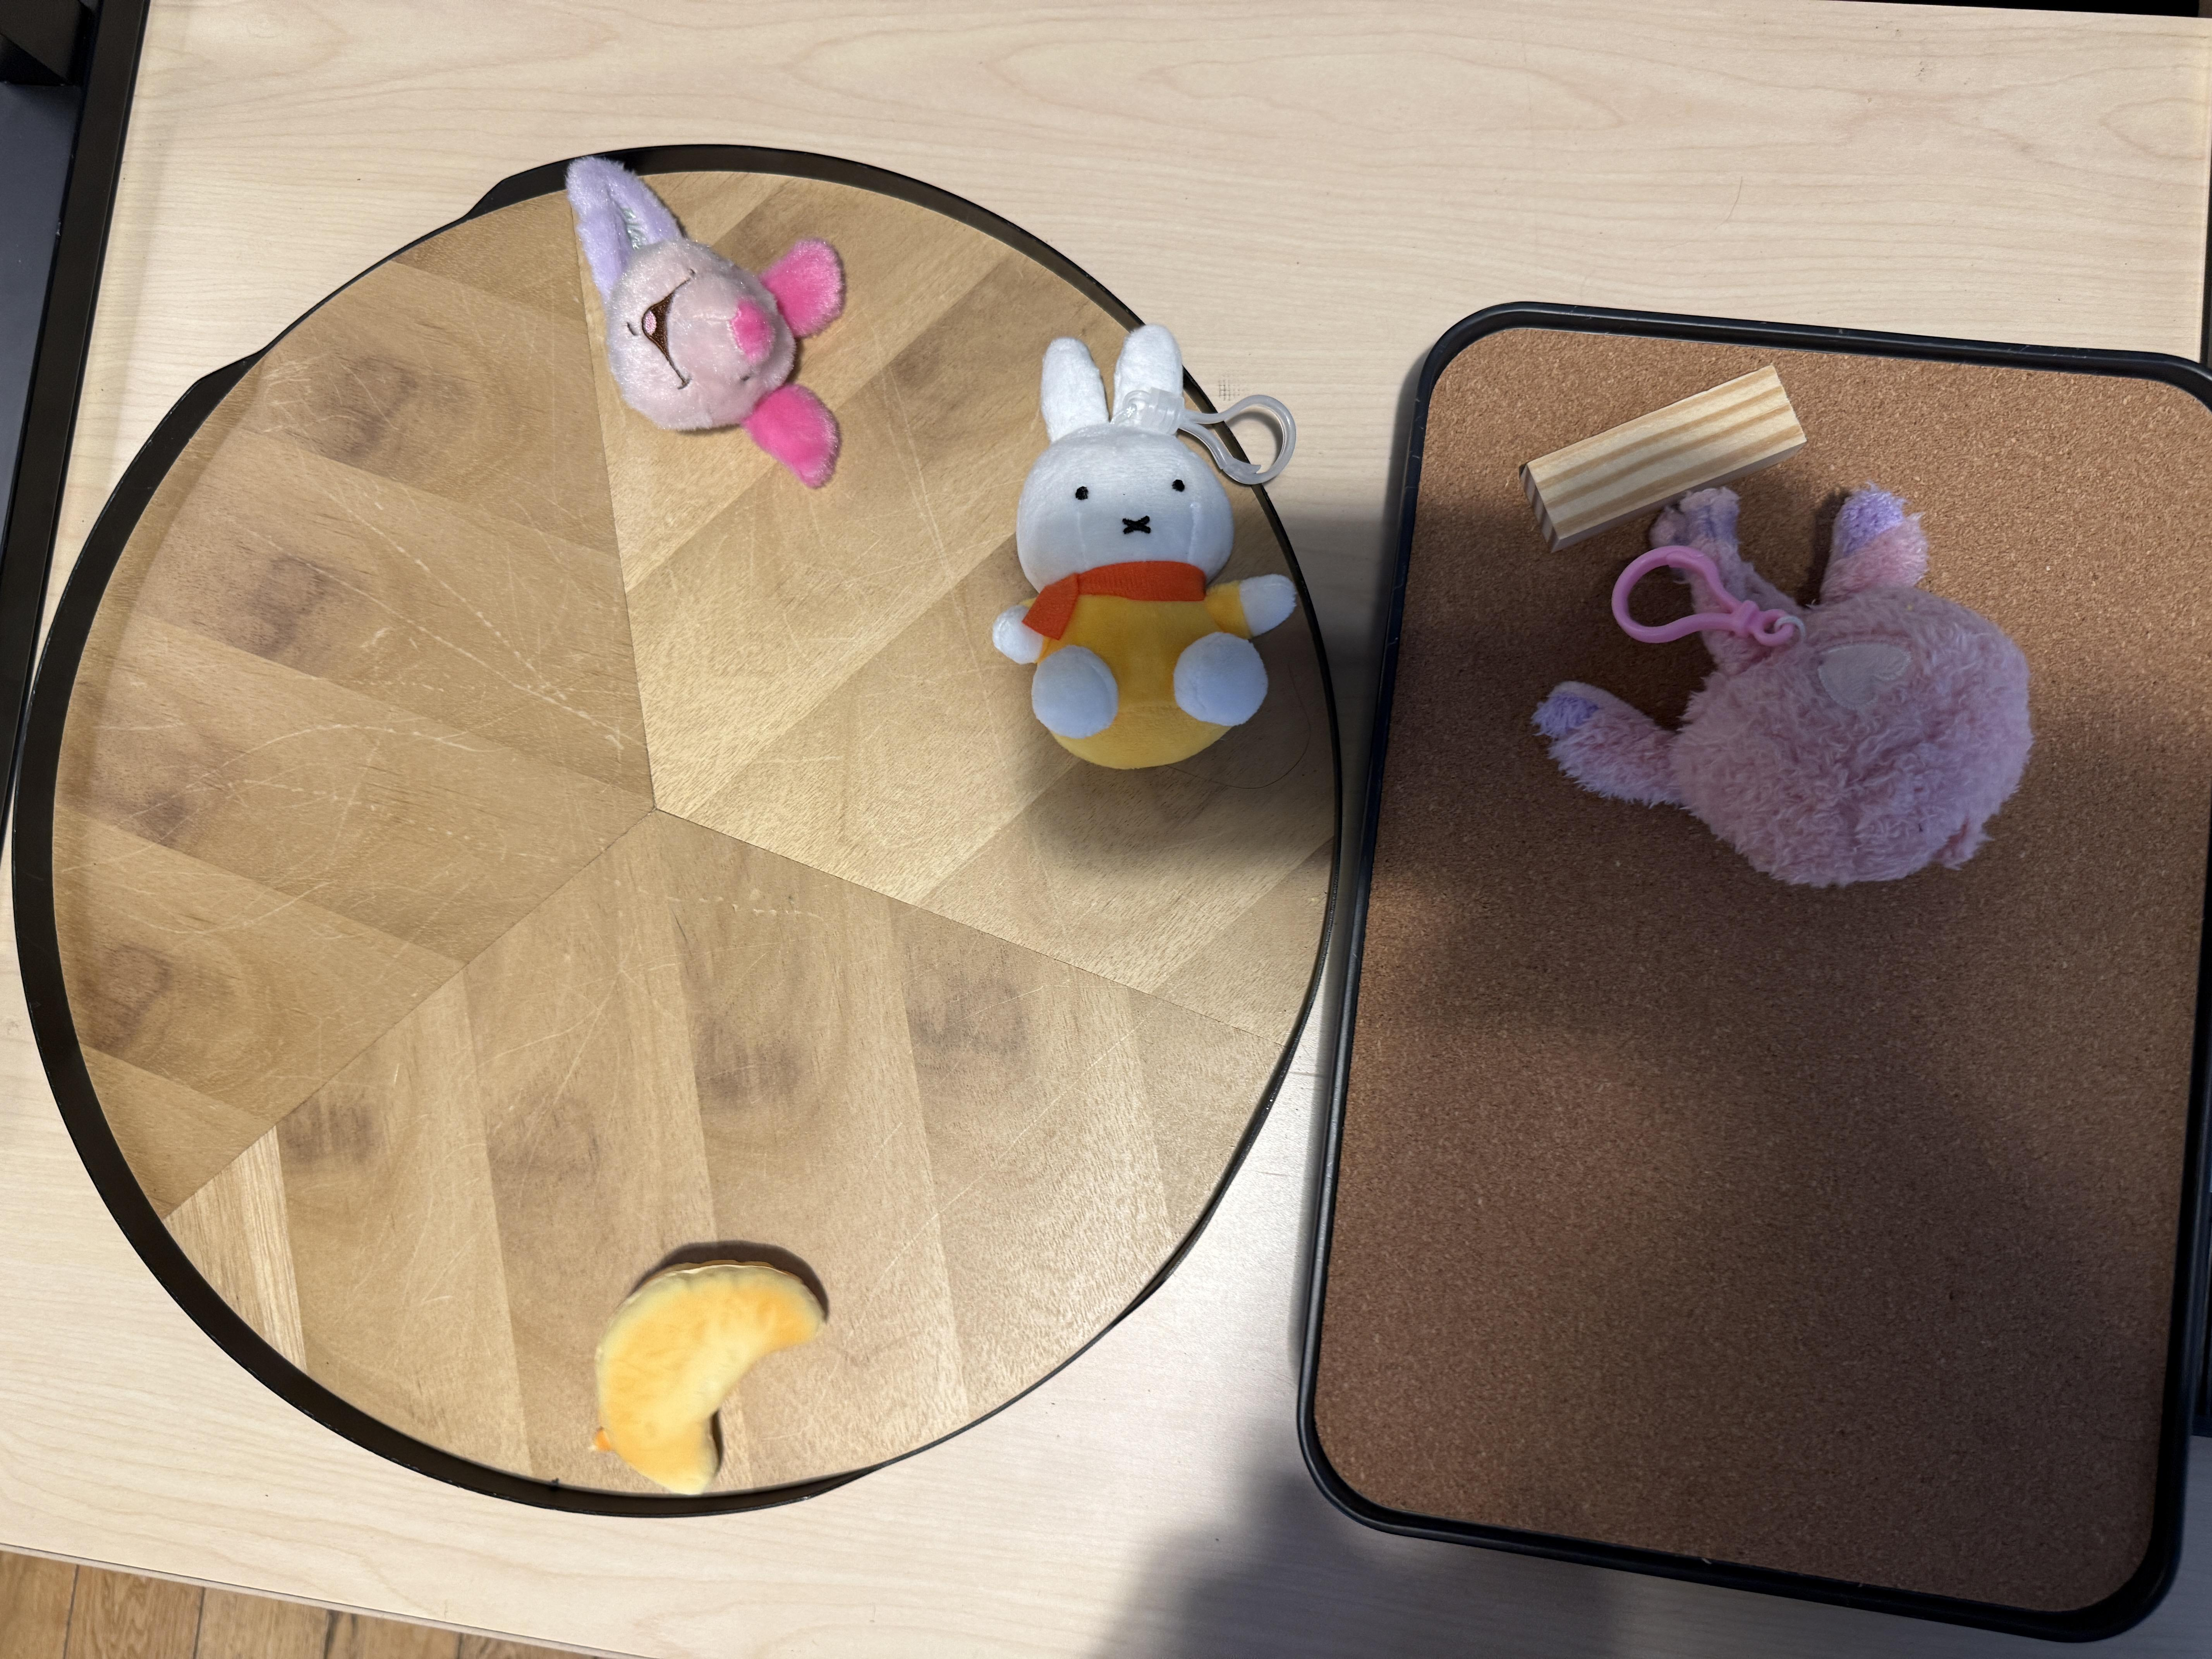block: (1524, 362, 1810, 544)
bread: (594, 1258, 829, 1499)
doll: (1543, 490, 2038, 890), (991, 326, 1296, 772), (564, 157, 850, 484)
